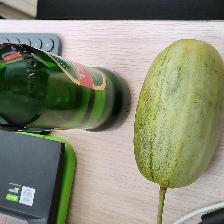gua: (141, 38, 213, 190)
